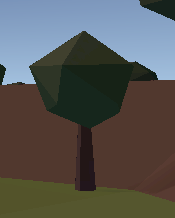tree: (28, 30, 136, 192)
